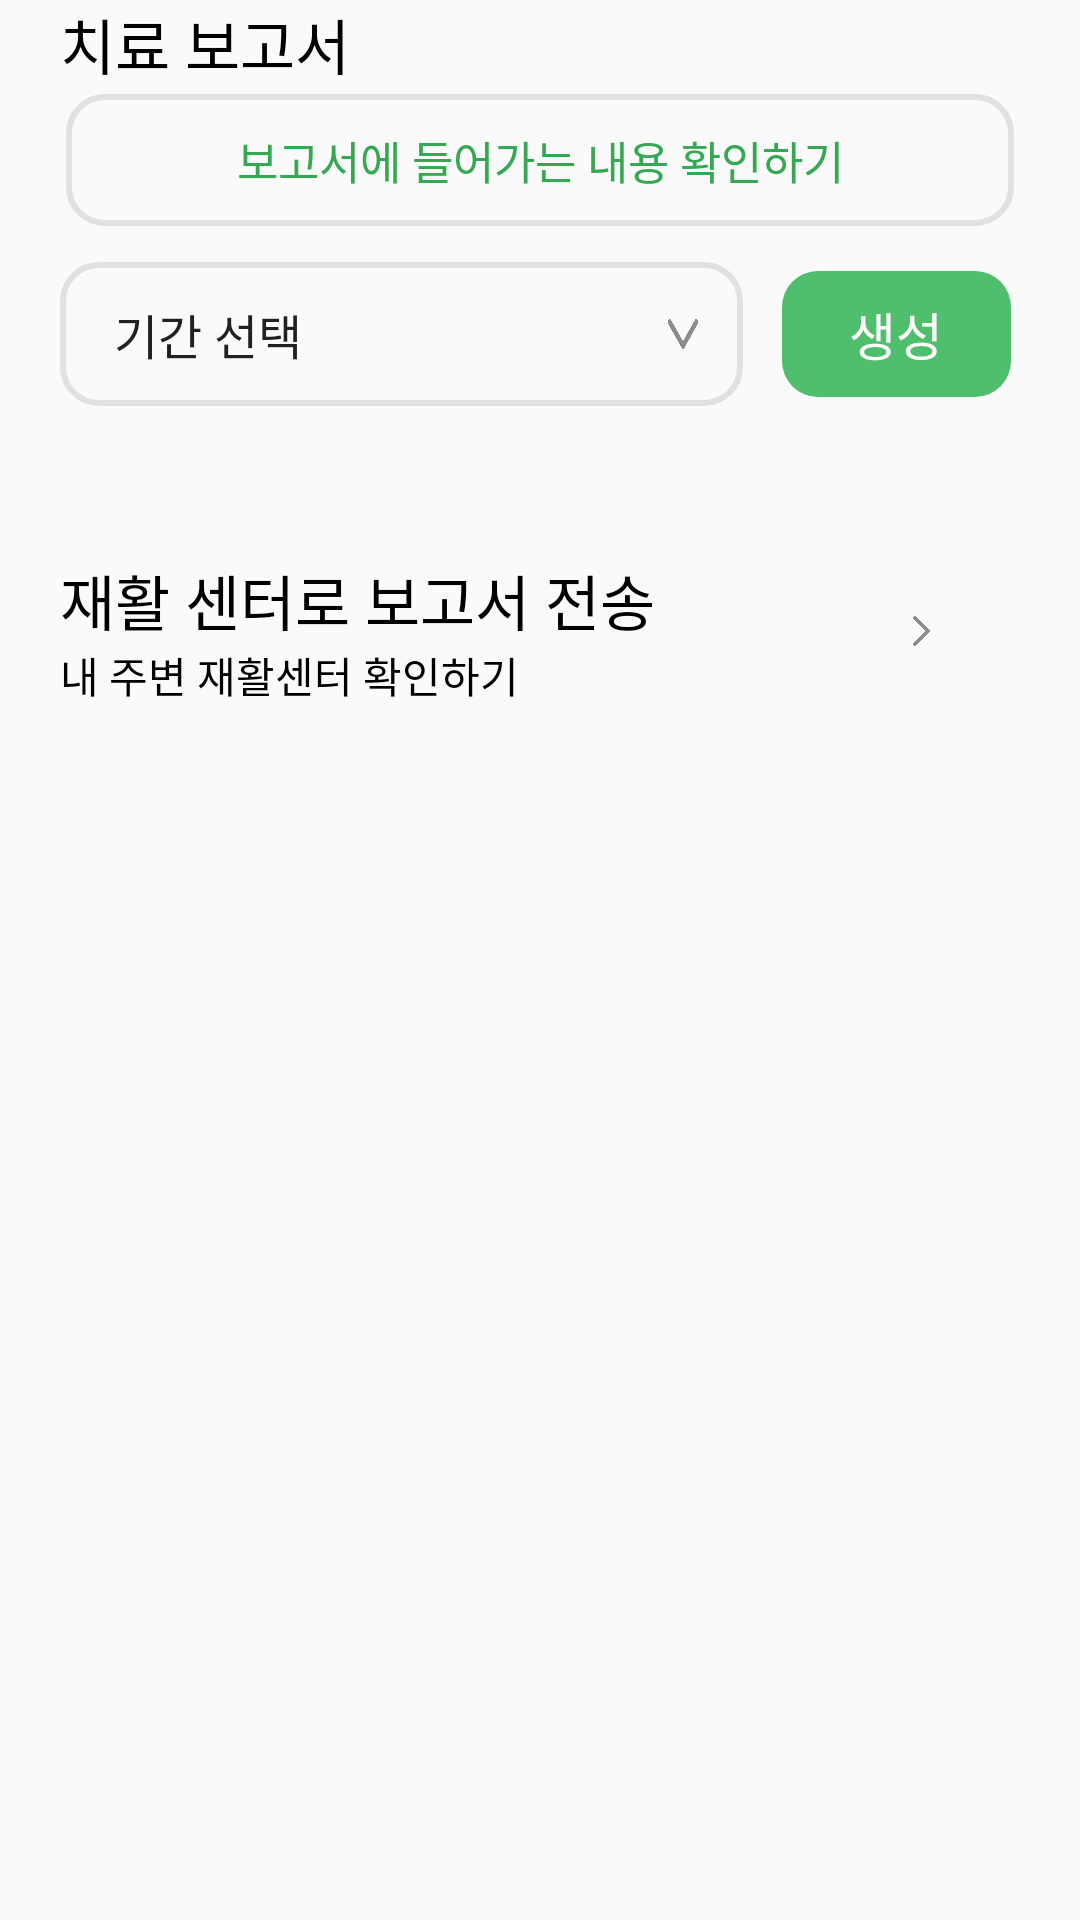

Locate icon controls on the screen. Image size 1080px×1920px, boxes as (x1,y1,x2,y2).
arrow right: (913,616,930,646)
